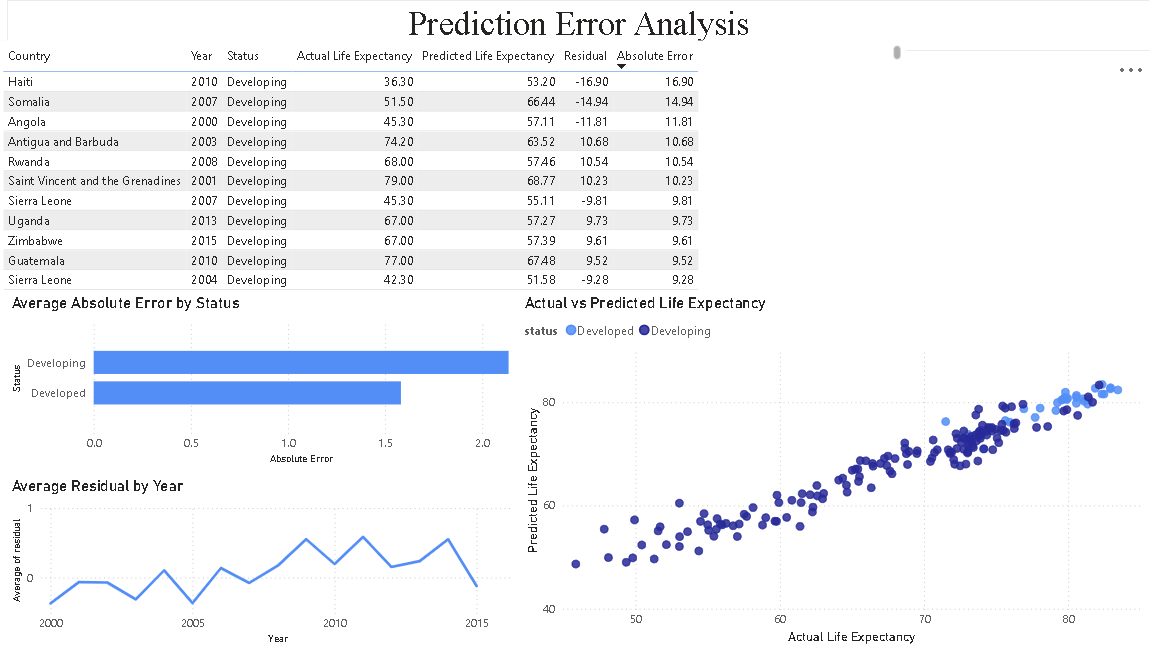

This screenshot's page, from the dashboard's own definition file:
{"tool":"powerbi","page":{"name":"Predictor Error analysis","canvas":[1280,720],"ordinal":2},"visuals":[{"type":"textbox","box":[10,0,1270,56.7],"z":0},{"type":"scatterChart","title":"Actual vs Predicted Life Expectancy","fields":{"X":["Avg(predictions.actual_life_expectancy)"],"Y":["Avg(predictions.predicted_life_expectancy)"],"Series":["predictions.status"],"Category":["predictions.country"]},"box":[580,326.7,700,393.3],"z":1},{"type":"clusteredBarChart","title":"Average Absolute Error by Status","fields":{"Category":["predictions.status"],"Y":["Avg(predictions.absolute_error)"]},"box":[10,326.7,570,193.3],"z":2},{"type":"tableEx","fields":{"Values":["predictions.country","predictions.year","predictions.status","predictions.actual_life_expectancy","predictions.predicted_life_expectancy","predictions.residual","predictions.absolute_error"]},"box":[0,45,1008.3,281.7],"z":3},{"type":"lineChart","title":"Average Residual by Year","fields":{"Category":["predictions.year"],"Y":["Avg(predictions.residual)"]},"box":[10,530,570,190],"z":4}]}

Visuals, with their boxes in screenshot pixels (x1, y1, x2, y2), scaled from the page's 1280x720 canvas onto the 1149x646 screenshot:
textbox: (x1=9, y1=0, x2=1148, y2=51)
"Actual vs Predicted Life Expectancy" scatterChart: (x1=521, y1=293, x2=1148, y2=645)
"Average Absolute Error by Status" clusteredBarChart: (x1=9, y1=293, x2=521, y2=467)
tableEx - predictions.country x predictions.year: (x1=0, y1=40, x2=905, y2=293)
"Average Residual by Year" lineChart: (x1=9, y1=476, x2=521, y2=645)
